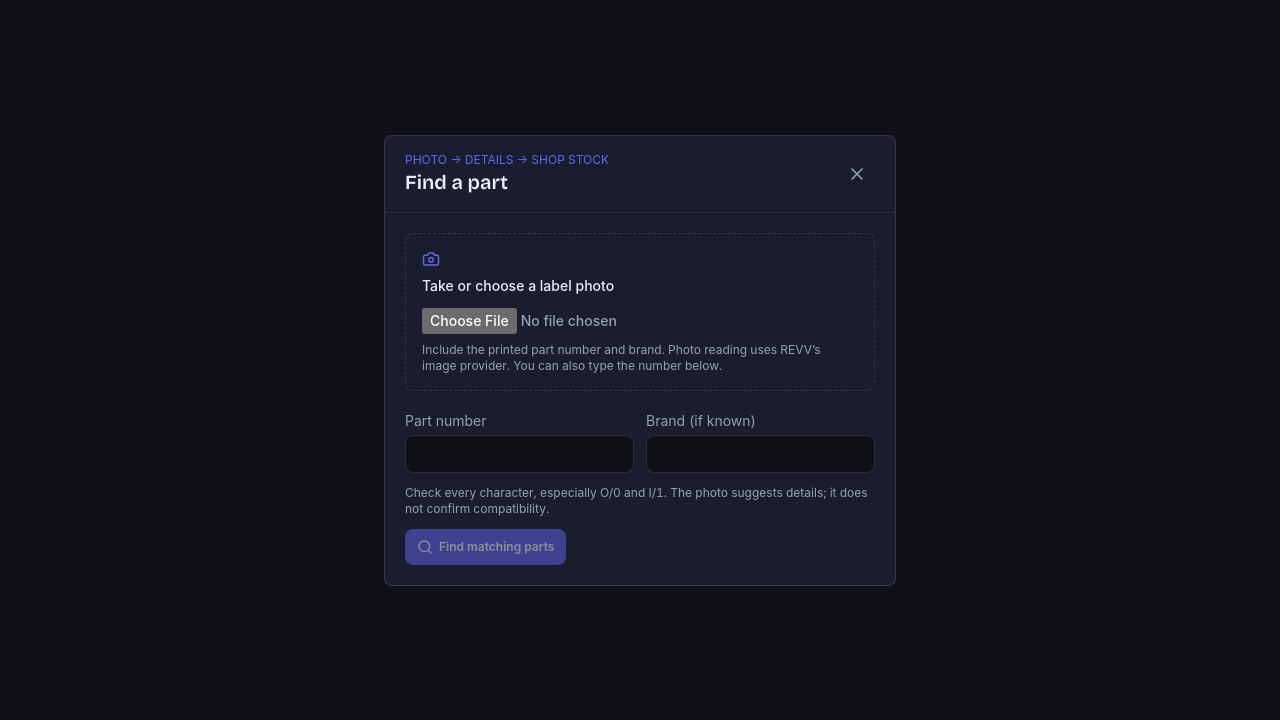
Test: different candidate MPN requires another stock check
Type "AB123" into the field labelled "Part number" at (520, 454), box [405,434,634,472]
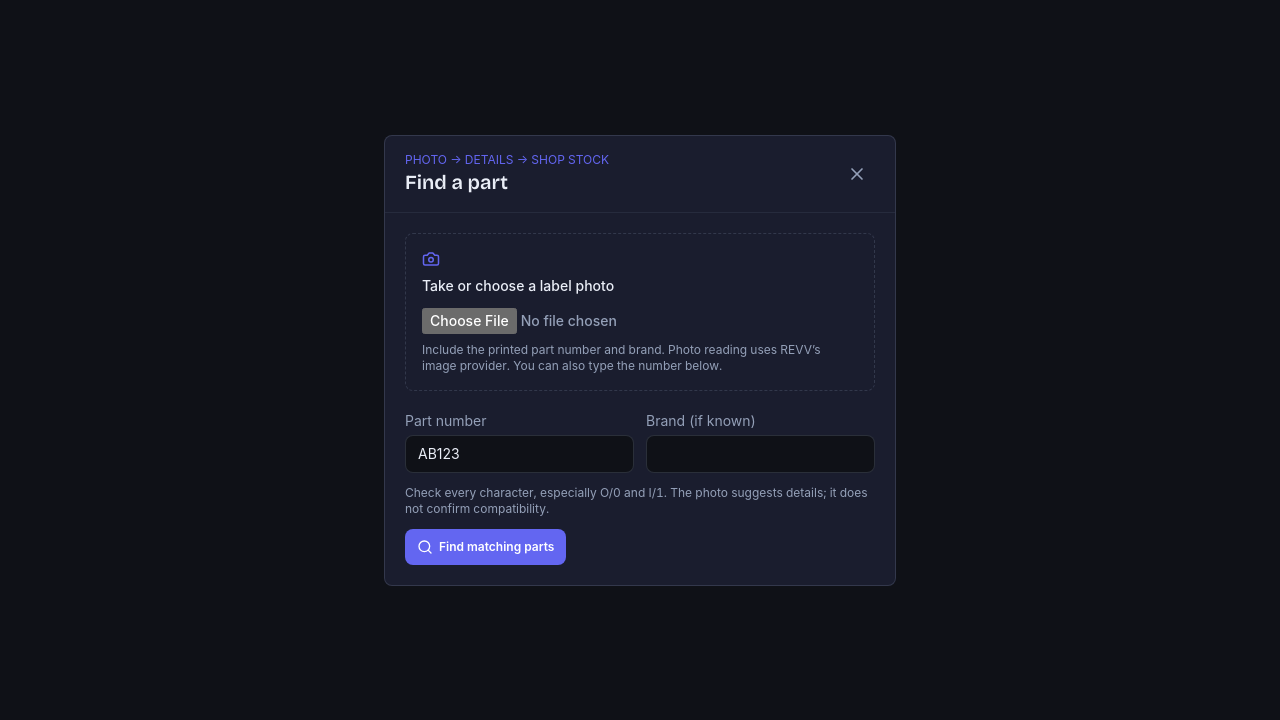
Type "Example" into the field labelled "Brand (if known)" at (760, 454), box [646,434,875,472]
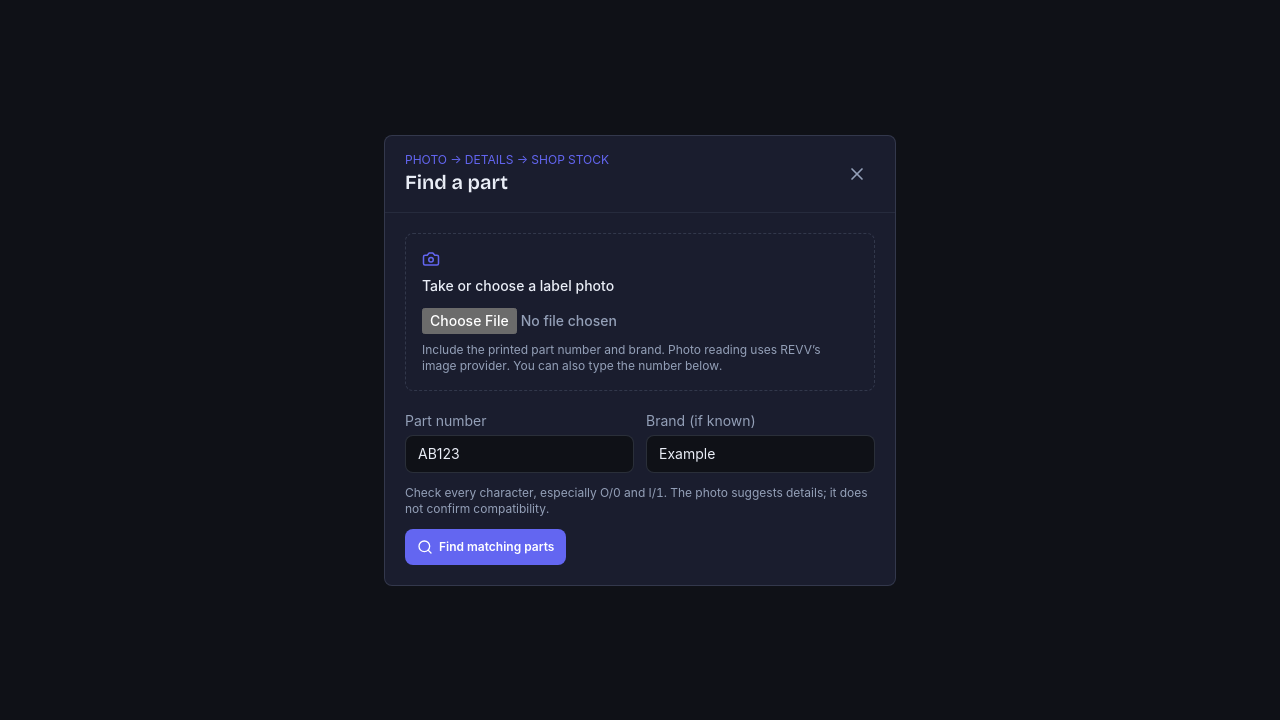
Click the button "Find matching parts" at (486, 546), box [405,528,566,564]
(page scrolled)
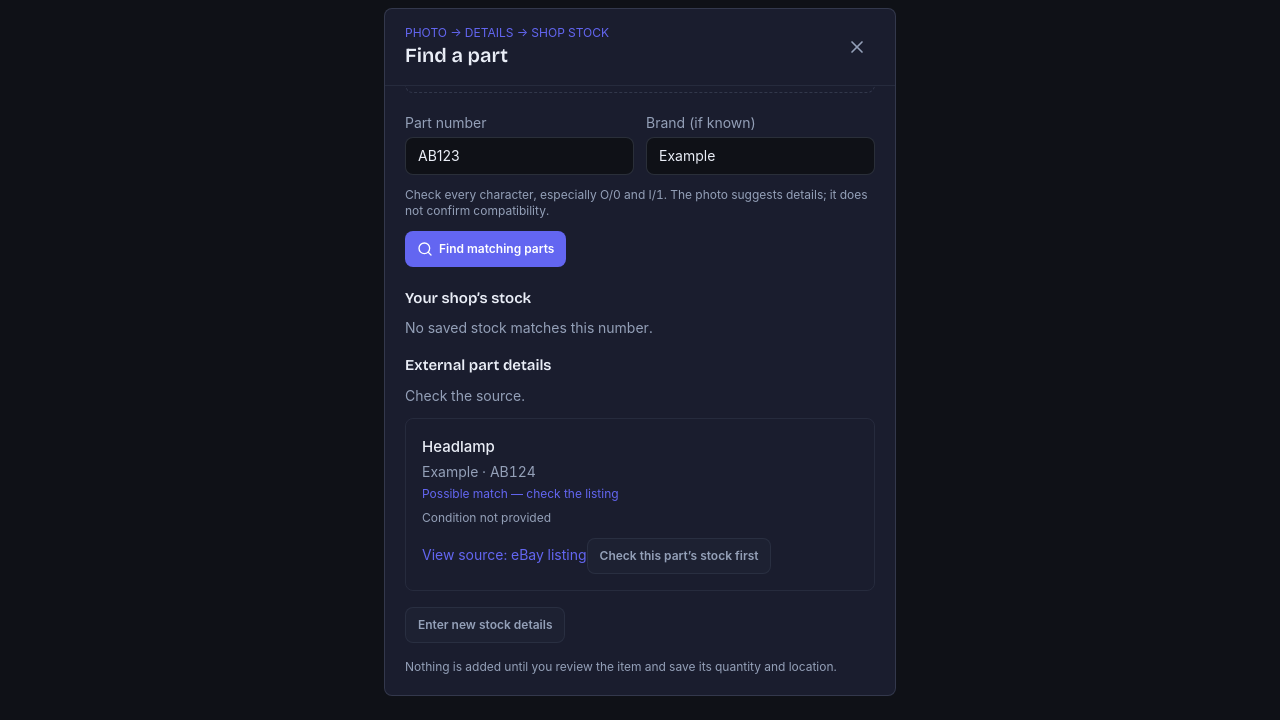
Now the text "Check the source." is shown, box [405,386,525,404]
Click the button "Check this part’s stock first" at (679, 556), box [587,538,772,574]
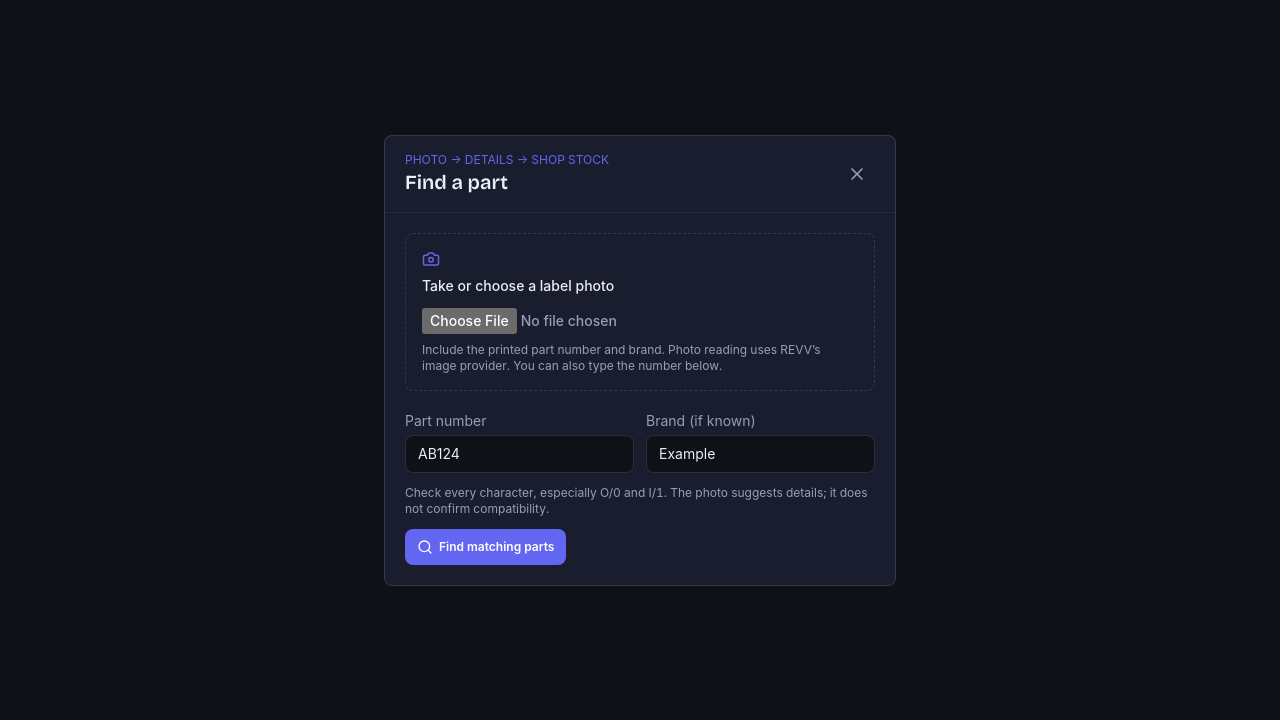
Now the field labelled "Part number" holds "AB124", box [405,434,634,472]
Now the heading "Your shop’s stock" is gone
